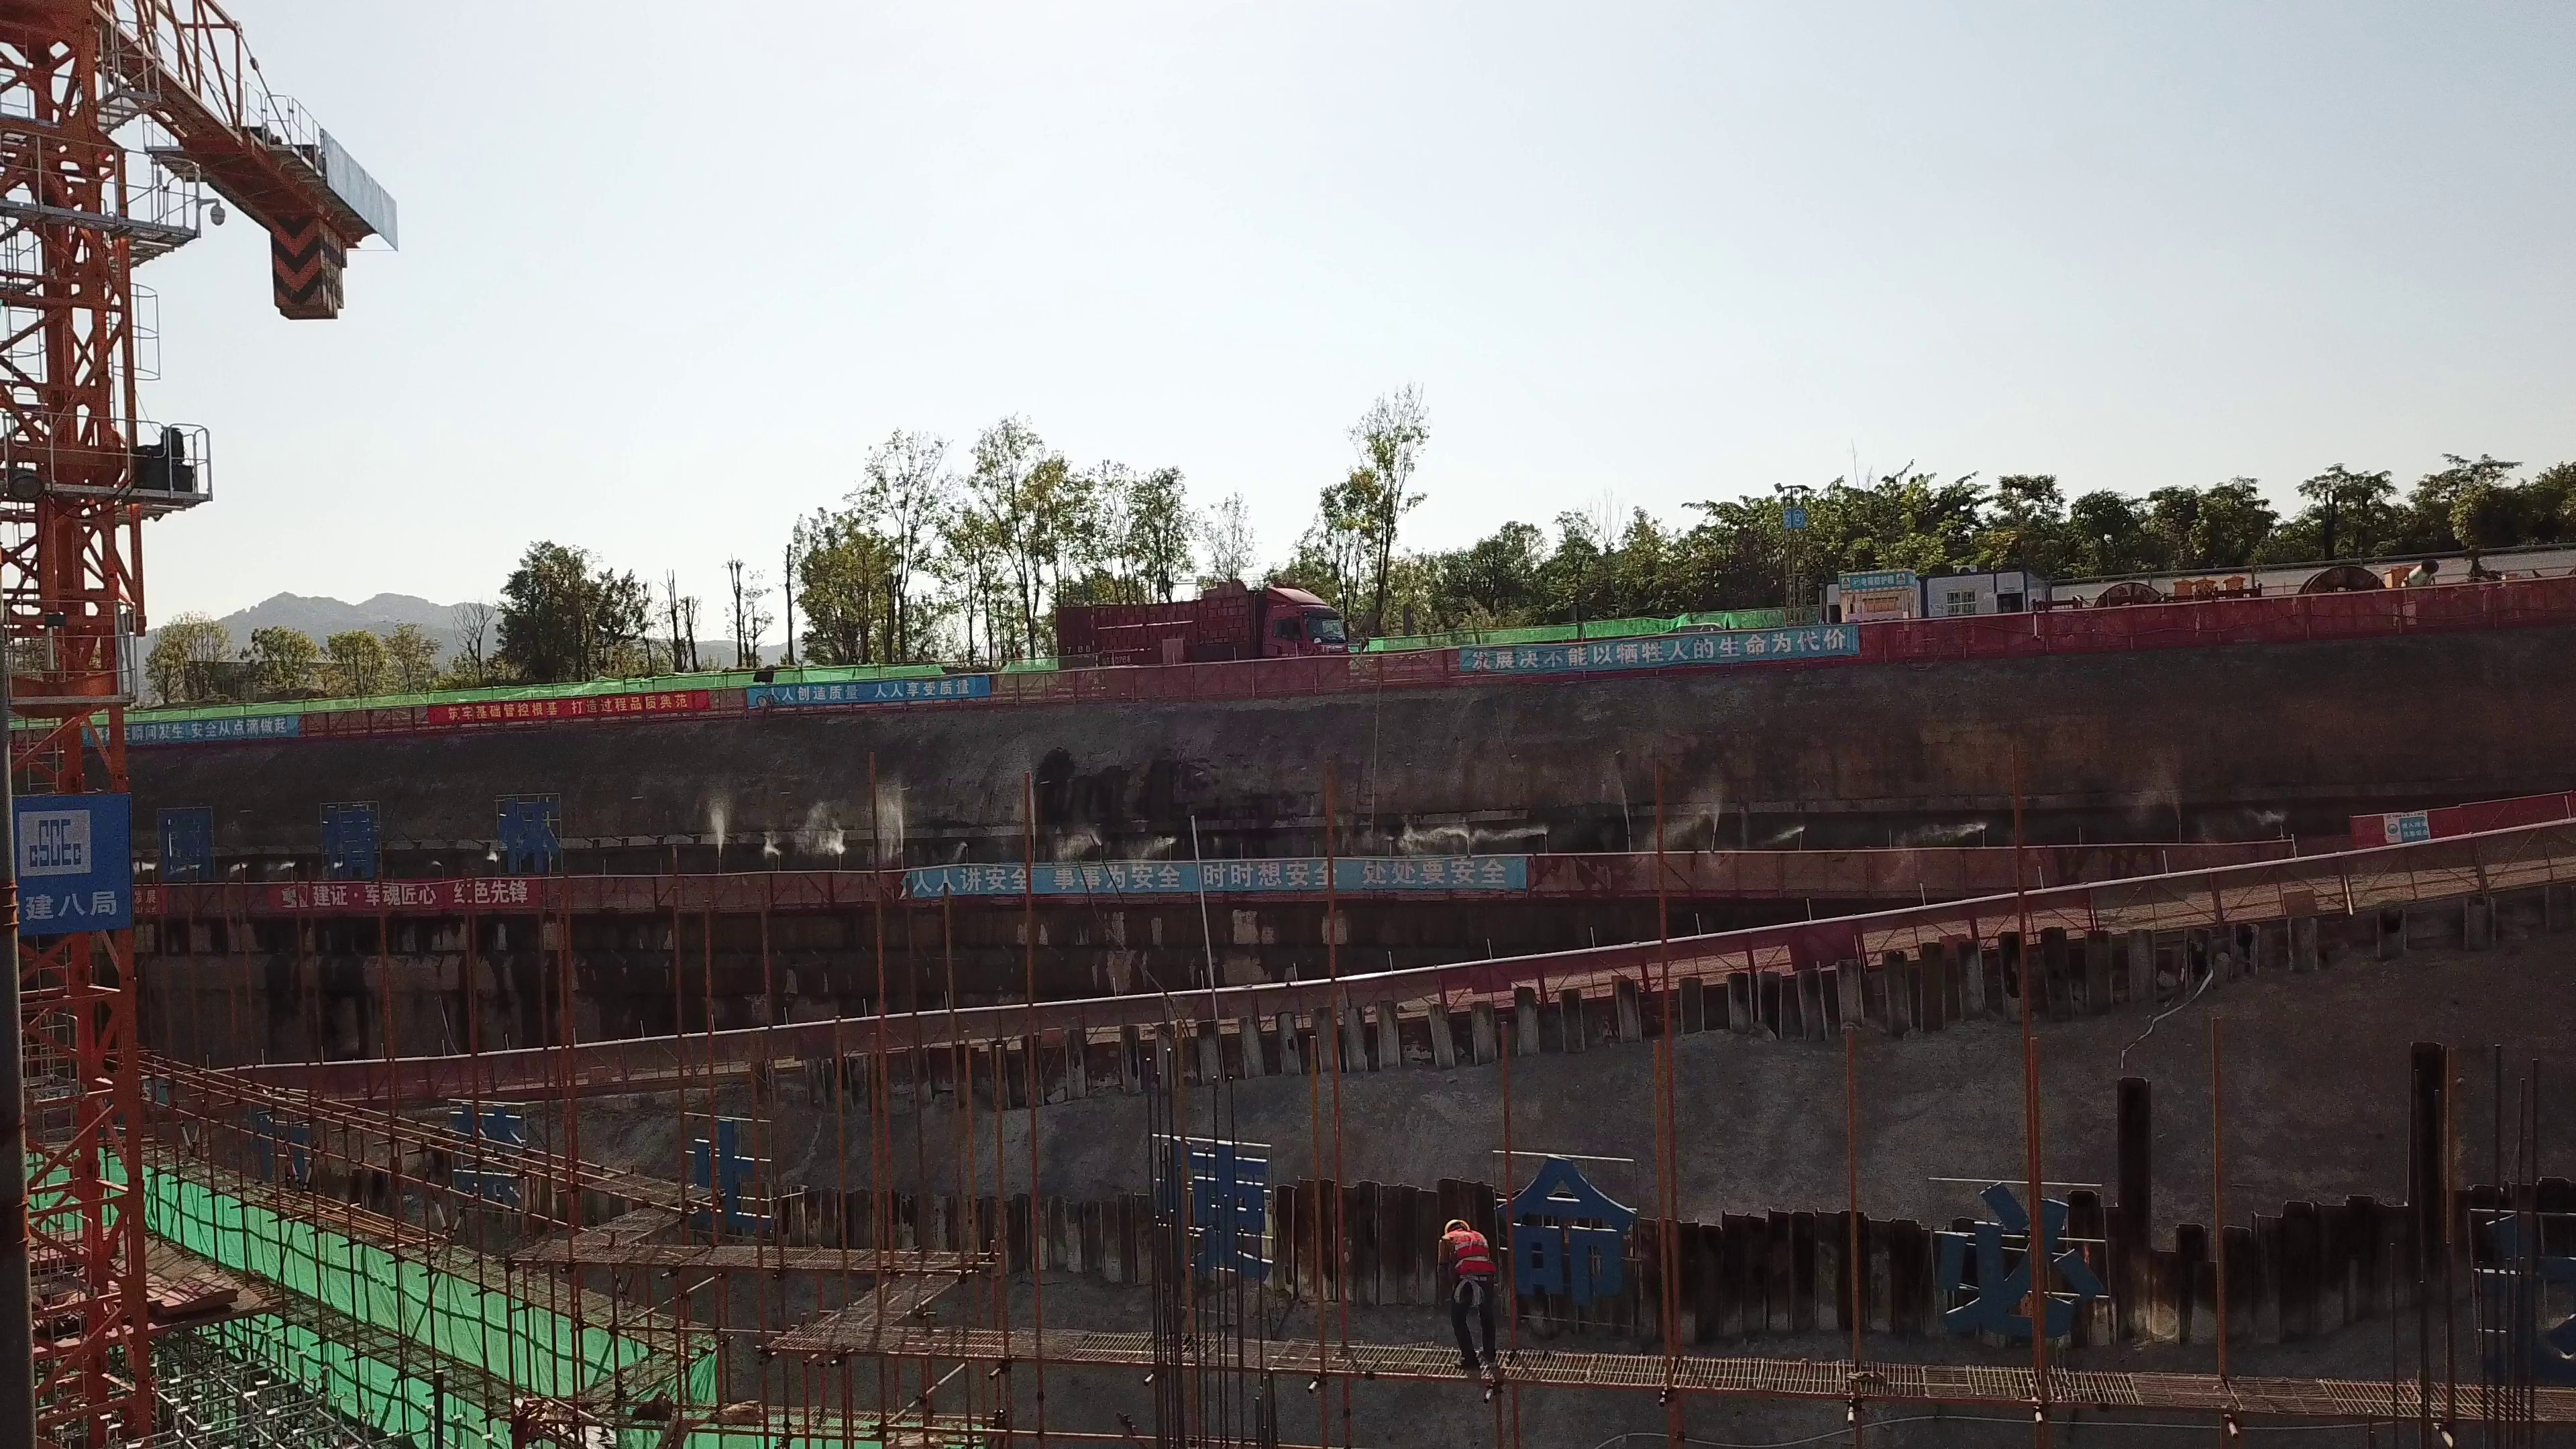fence: (1868, 583, 2571, 653), (1533, 830, 2017, 896), (1009, 641, 1458, 706), (1439, 935, 1756, 1020), (2220, 839, 2479, 928), (1753, 907, 1979, 996), (1978, 881, 2210, 958), (552, 863, 898, 913)
helmet: (1440, 1216, 1475, 1229)
person: (1415, 1211, 1515, 1379)
slogan: (897, 859, 1527, 909), (1462, 618, 1862, 682), (745, 668, 998, 715), (429, 686, 710, 724), (268, 877, 543, 911), (79, 714, 301, 750)
vest: (1440, 1231, 1497, 1271)
